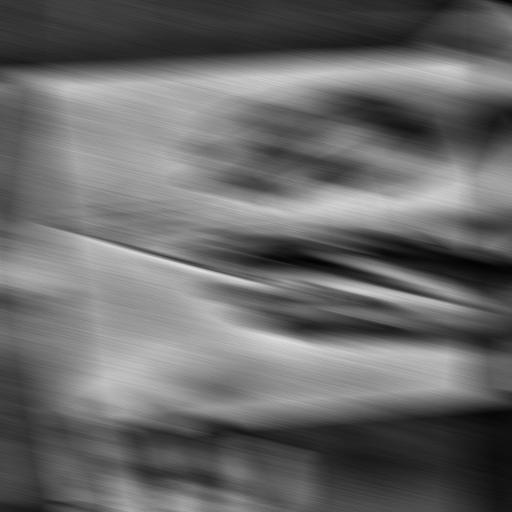boat: (29, 87, 479, 367)
bottom_left: (422, 46, 462, 62)
top_left: (3, 70, 38, 81)
top_right: (54, 425, 89, 437)
